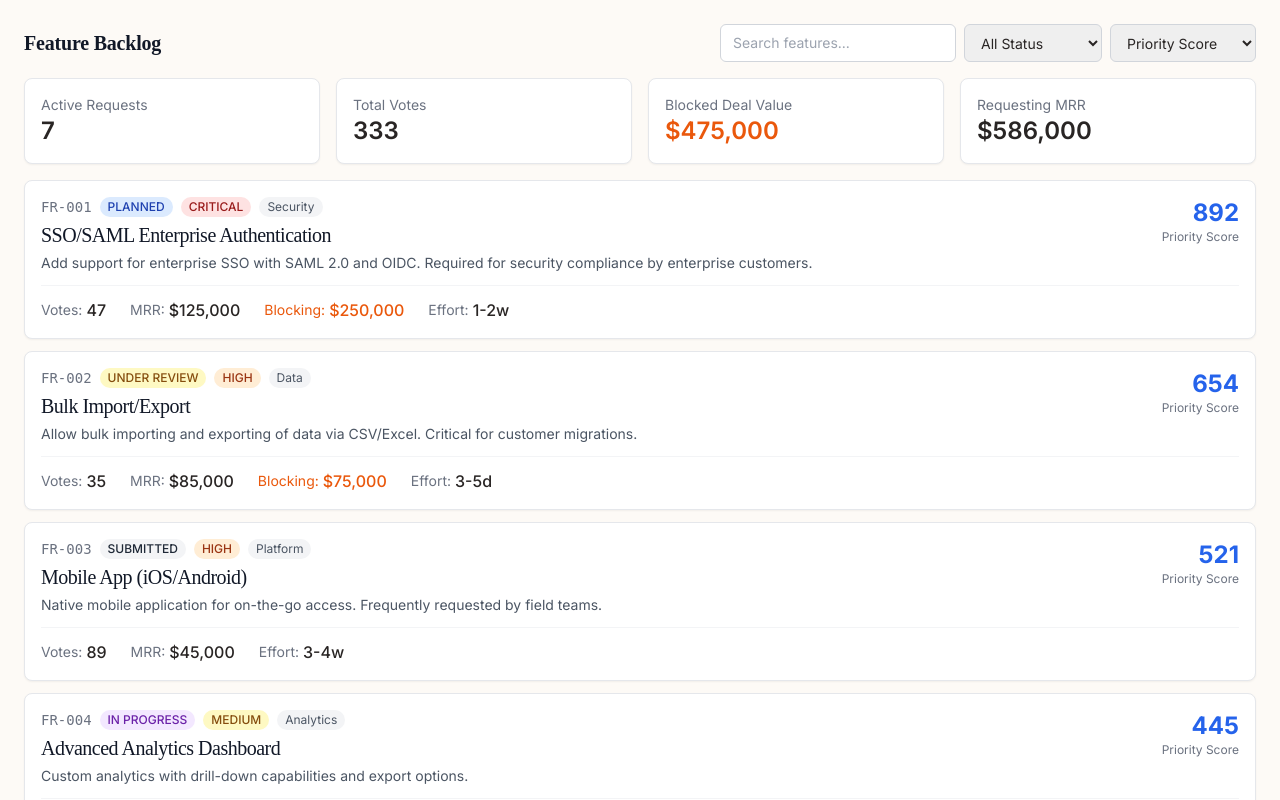
Test: RoadmapView › opens feature detail modal when clicking a feature
expect the heading "SSO/SAML Enterprise Authentication" is shown: met, box [41,224,331,246]
What coordinates should you click on to do the following:
click the text "SSO/SAML Enterprise Authentication"
I would click on:
 (640, 260)
Its box is [24,180,1256,339].
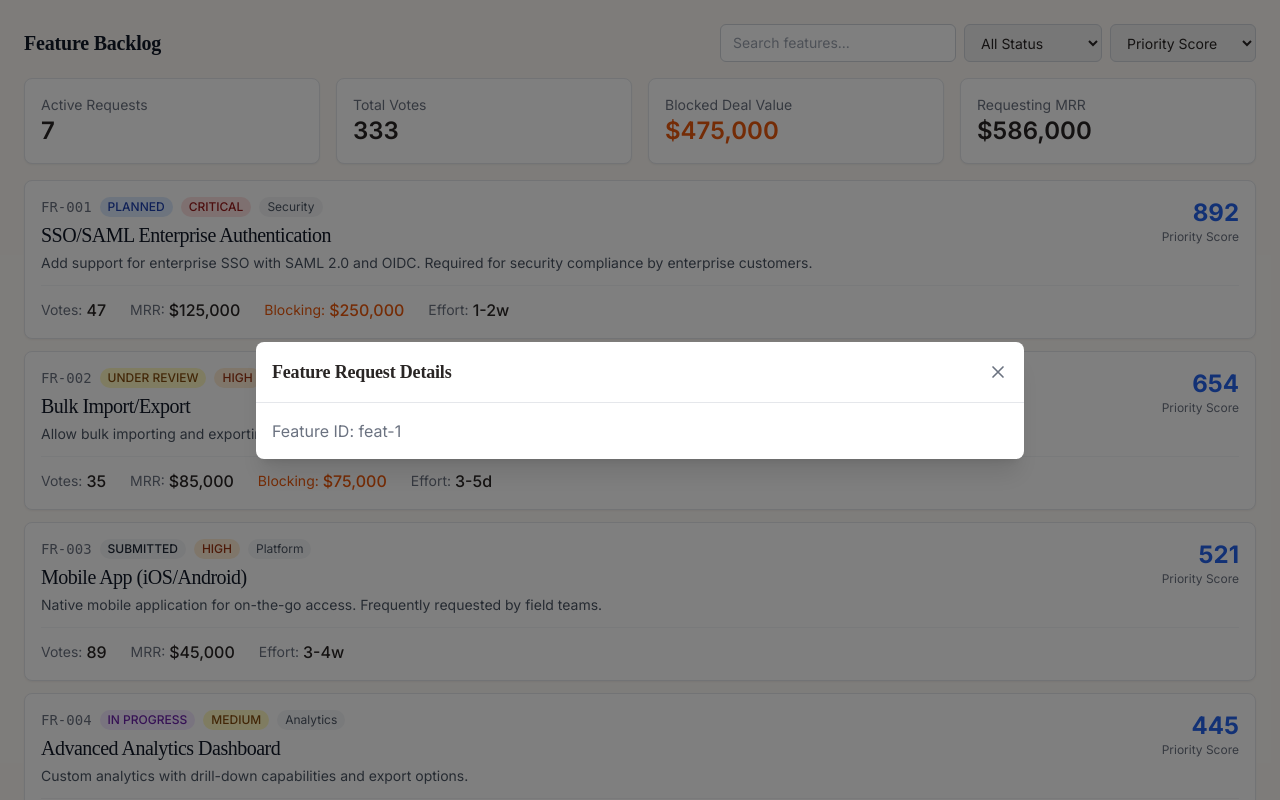
expect the heading "Feature Request Details" is shown: met, box [272,358,452,386]
